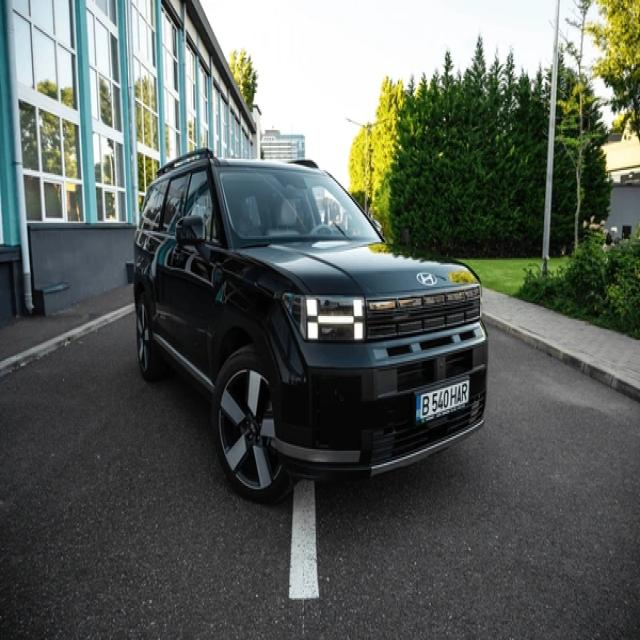hyundai: (412, 268, 441, 290)
